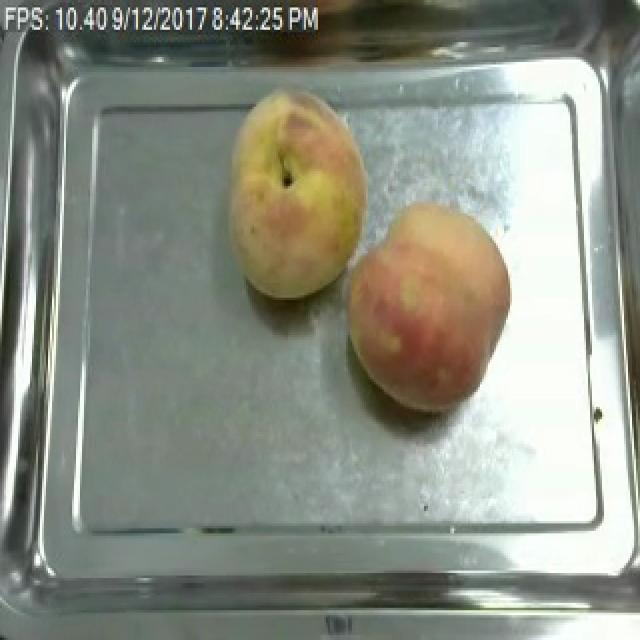Fruit: (336, 198, 520, 420), (216, 82, 380, 305)
